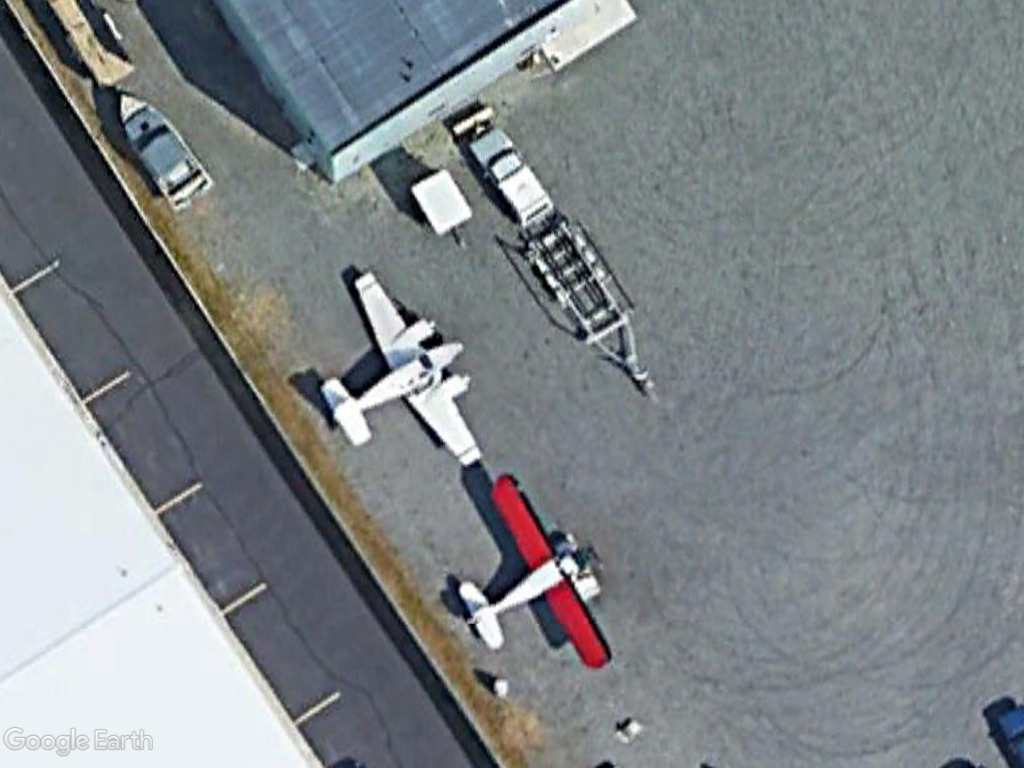boat: (116, 89, 214, 215)
trainer: (314, 259, 487, 475), (443, 468, 618, 670)
